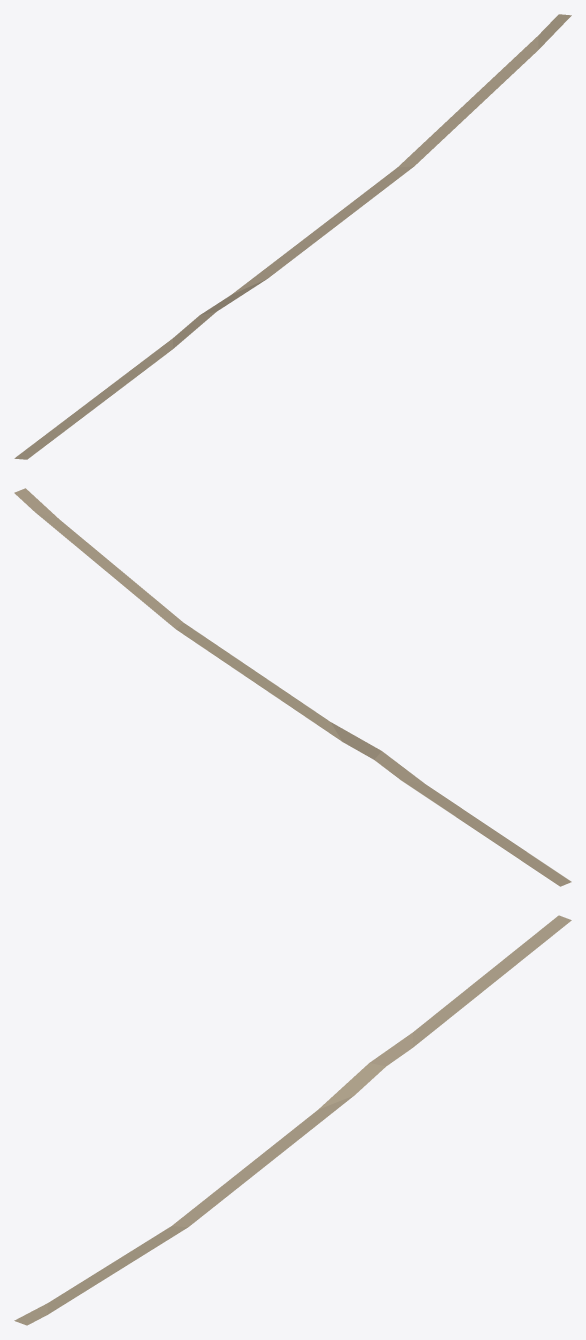
File: farm_-10_1_track.glb
The picture shows the model from 3 angles, top to bottom: view 1: azimuth 90°, elevation 25°; view 2: azimuth 150°, elevation 25°; view 3: azimuth 270°, elevation 25°; orthographic projection. The views are drawn at different scales.
Visible parts, largest first — view 1: geometry_0; view 2: geometry_0; view 3: geometry_0.
Boxes of the visible parts, x1,y1,x2,y2 form: geometry_0: (14, 14, 571, 459); geometry_0: (14, 488, 571, 886); geometry_0: (14, 915, 571, 1325).
Size of the model in its own units: 222 by 7.08 by 122.
